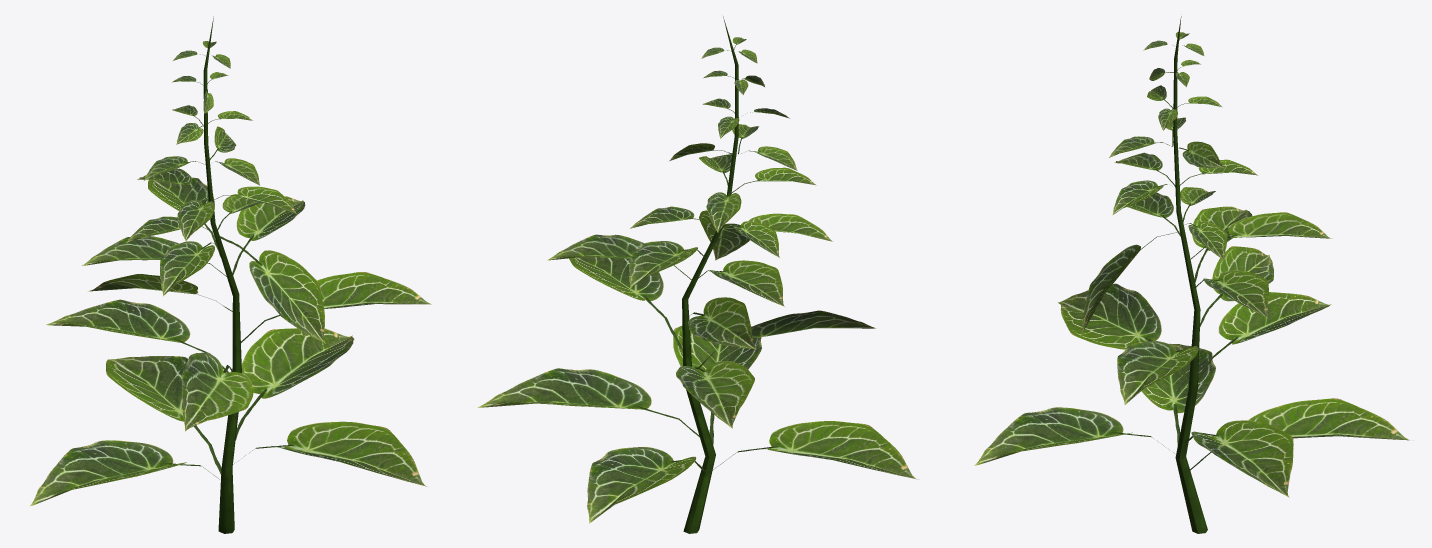
The model's file is bea.fbx.
3 renders of one model, left to right at view 1: azimuth 30°, elevation 25°; view 2: azimuth 150°, elevation 25°; view 3: azimuth 270°, elevation 25°, orthographic. The views are drawn at different scales.
Parts seen in each view (by area): view 1: Mesh Object; view 2: Mesh Object; view 3: Mesh Object.
Part boxes in pixels (x1=…): Mesh Object: x1=30, y1=16, x2=431, y2=533; Mesh Object: x1=477, y1=16, x2=917, y2=533; Mesh Object: x1=974, y1=16, x2=1409, y2=533.
Bounding box in the file's own units: 10.22 × 12.75 × 10.41.
